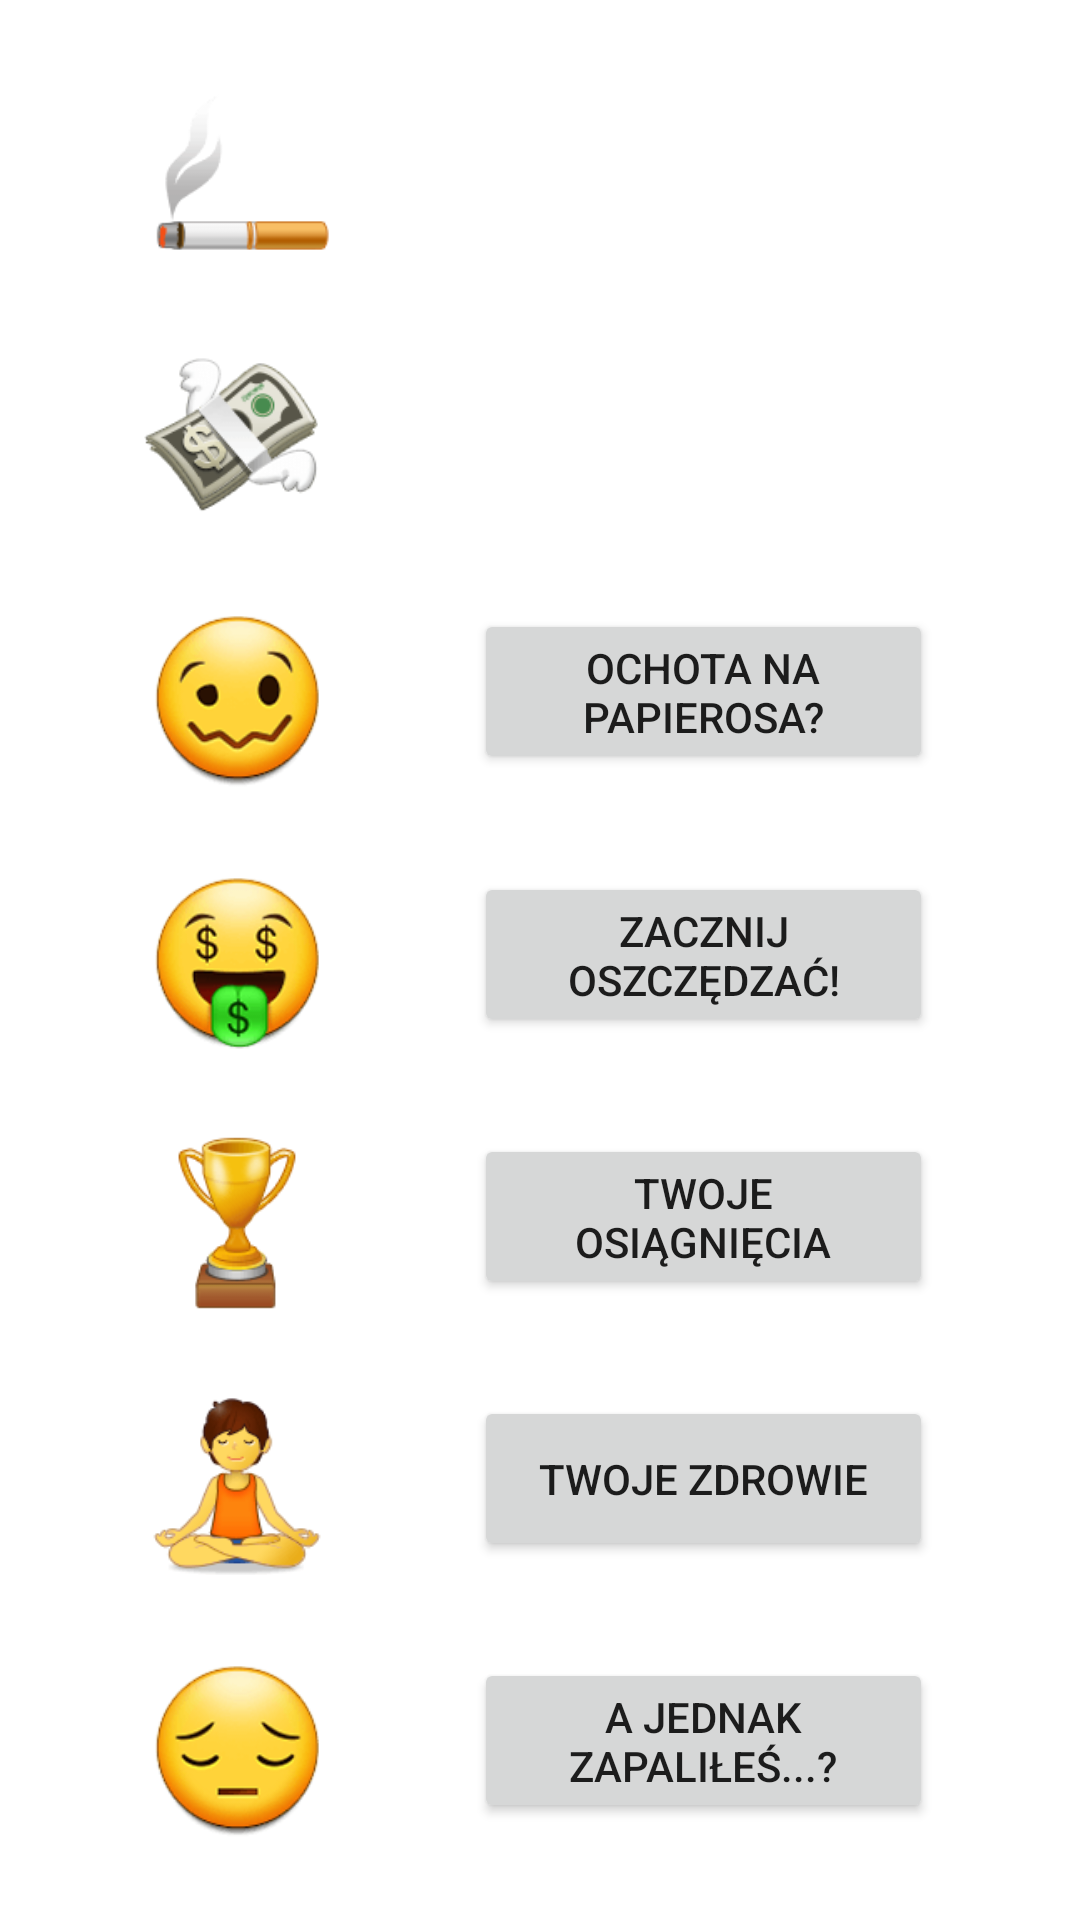

Point at icon controls on the screen. Image size 1080w x 1920h, points as (x,y).
cigarette 1f6ac: (243,196)
money mouth face 1f: (237,963)
pensive face 1f: (237,1750)
woozy face 1f: (237,700)
